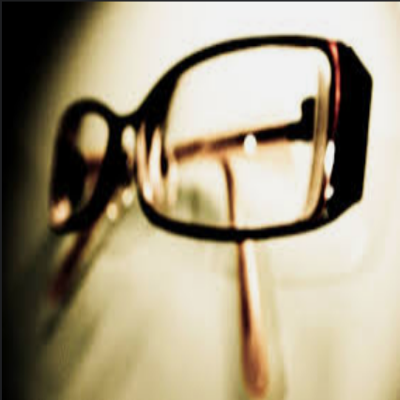glasses: (42, 33, 376, 393)
